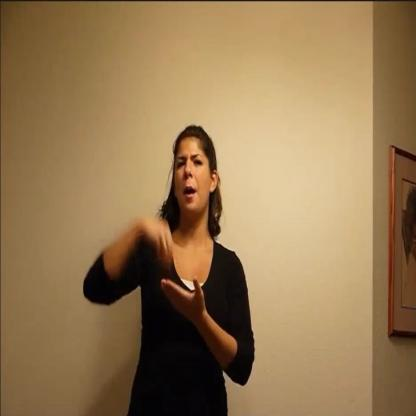Expensive: (127, 192, 209, 338)
